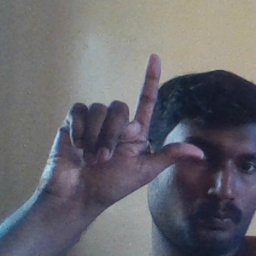L: (41, 53, 207, 204)
